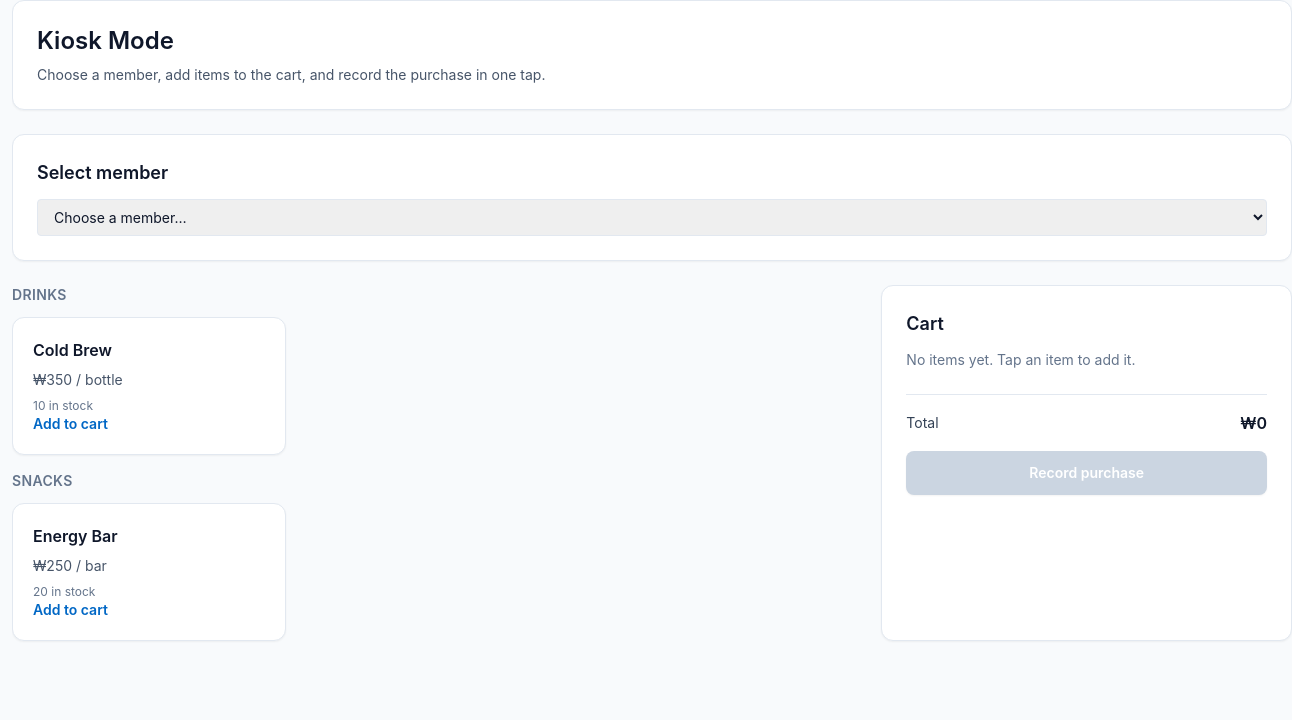
Scenario: KioskScreen › adds items to the cart and posts checkout
Select "Casey (casey@example.com)" in the dropdown labelled "Select member" at [652, 218], box x1=37 y1=199 x2=1267 y2=236
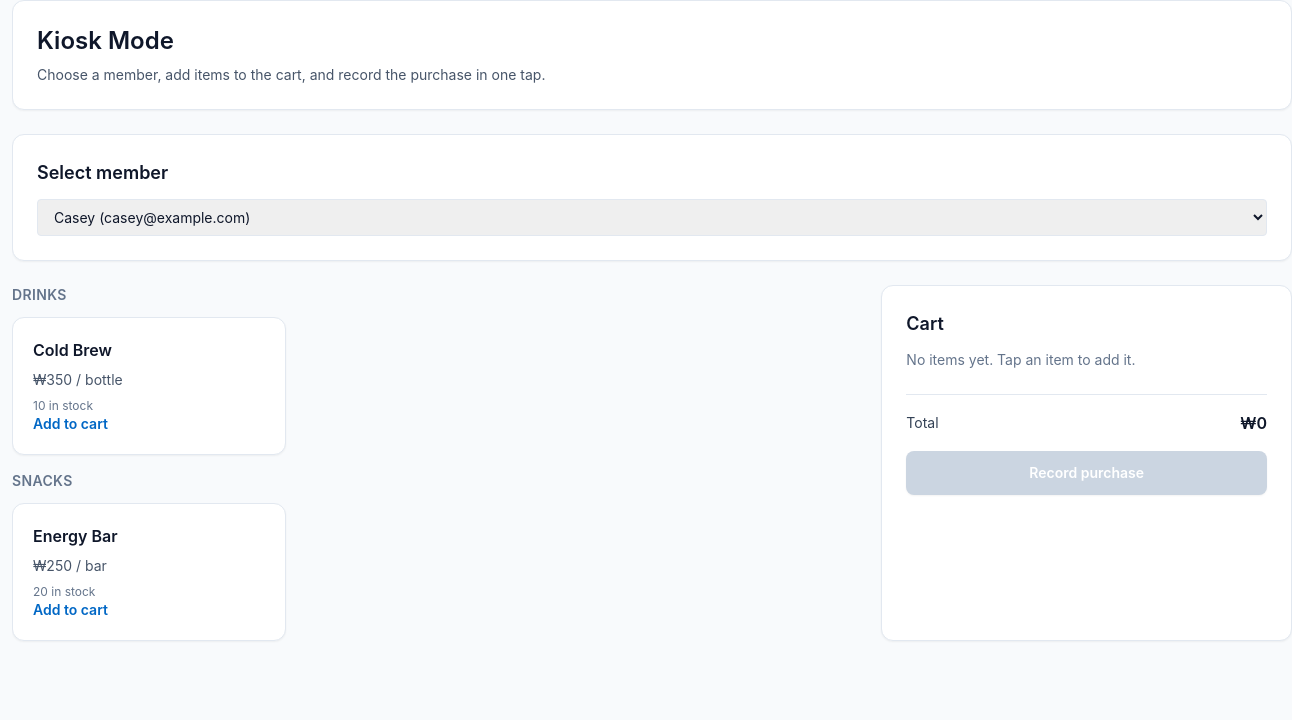
Click the heading "Cold Brew" at [78, 350], box x1=33 y1=338 x2=123 y2=362
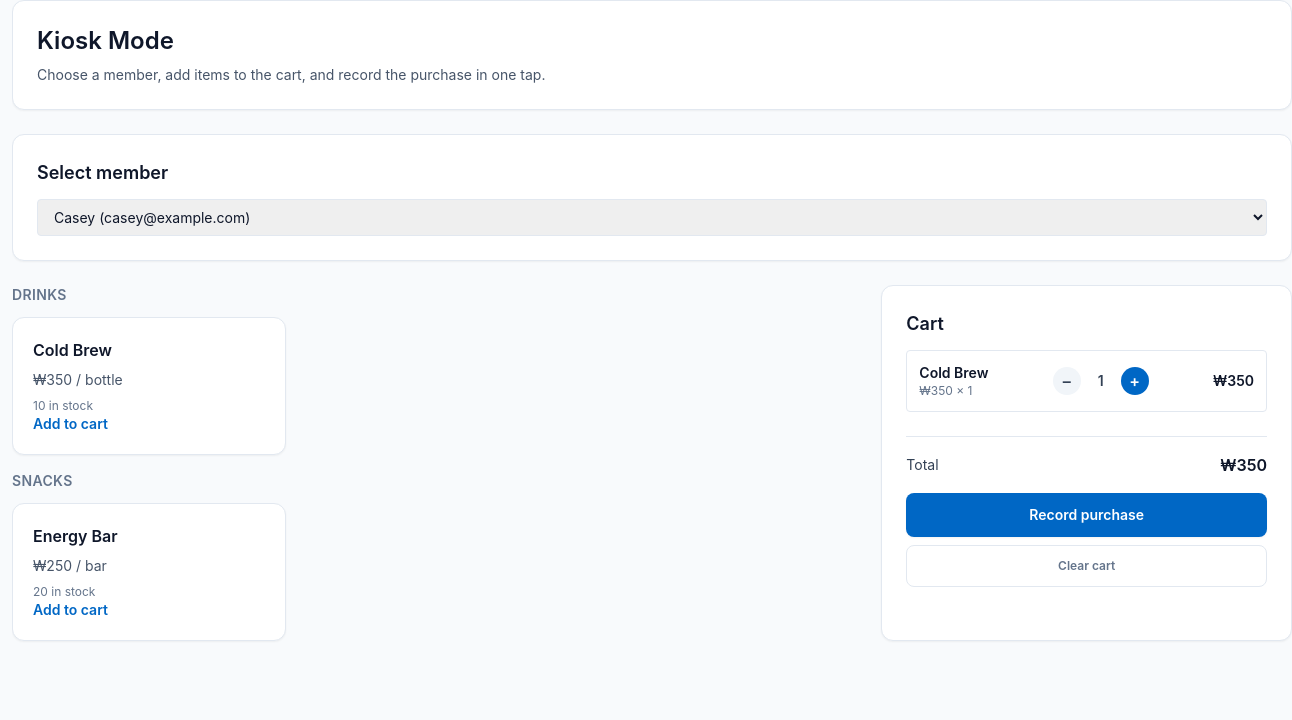
Click the heading "Energy Bar" at [75, 536], box x1=33 y1=524 x2=118 y2=548
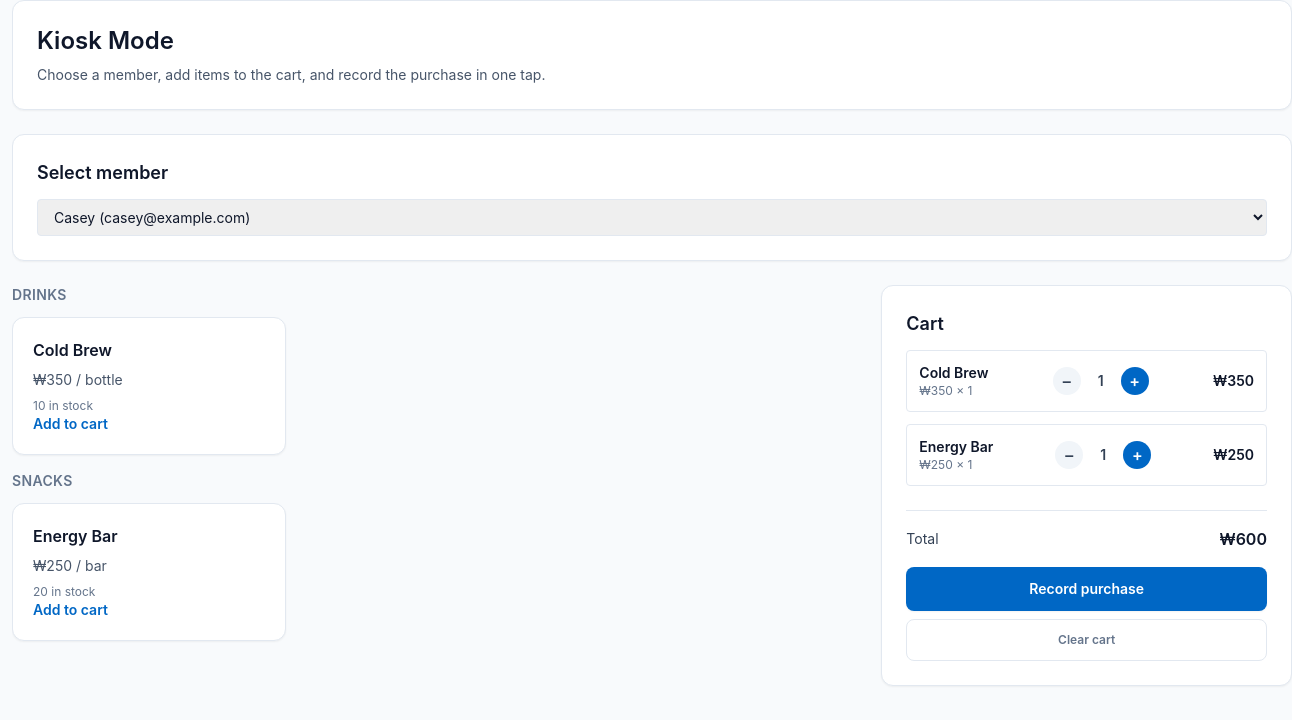
Click the button "Record purchase" at [1087, 589], box x1=906 y1=567 x2=1267 y2=611
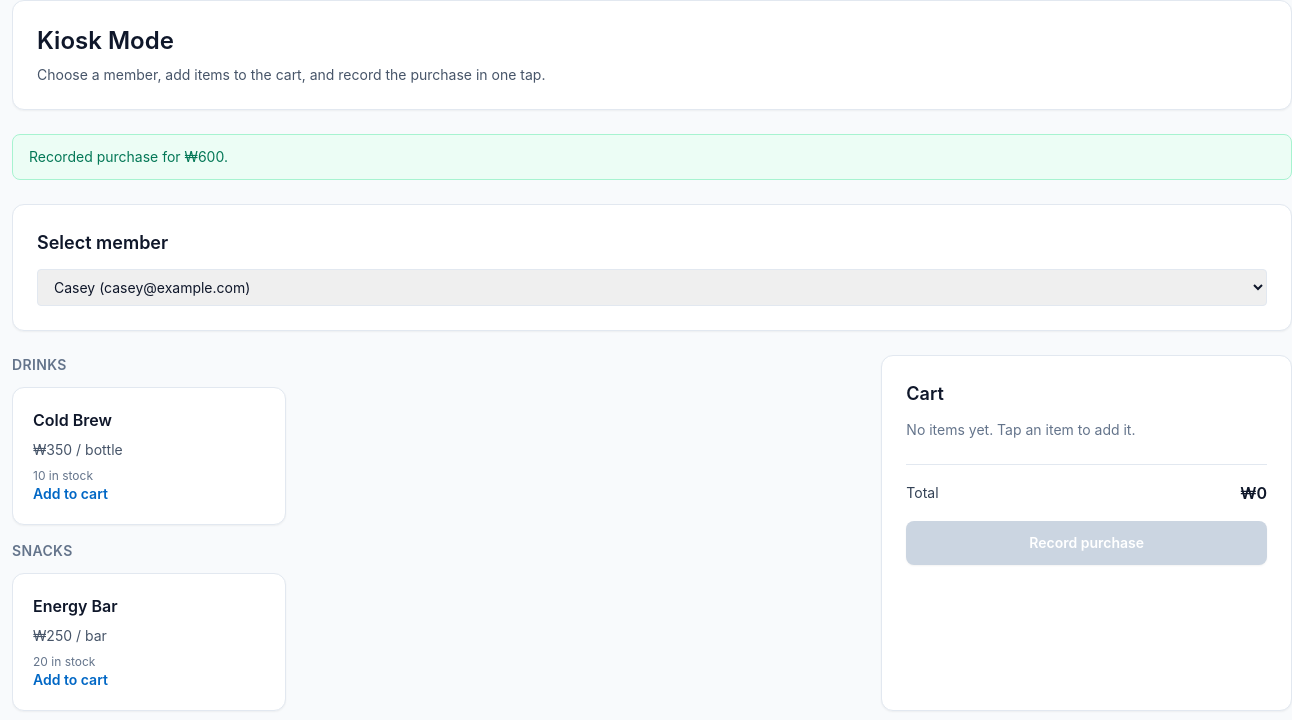
expect the text "Recorded purchase for ₩600." is shown: met, box x1=12 y1=134 x2=1291 y2=180
